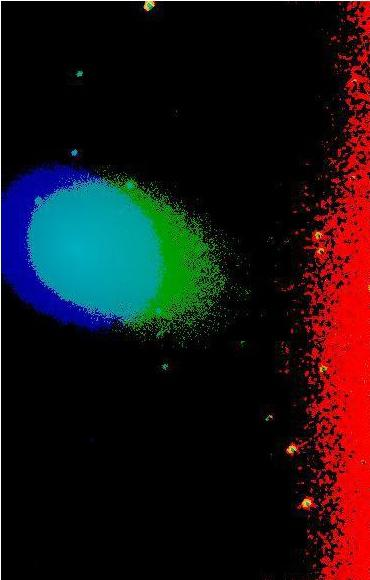star: (212, 109, 242, 139)
